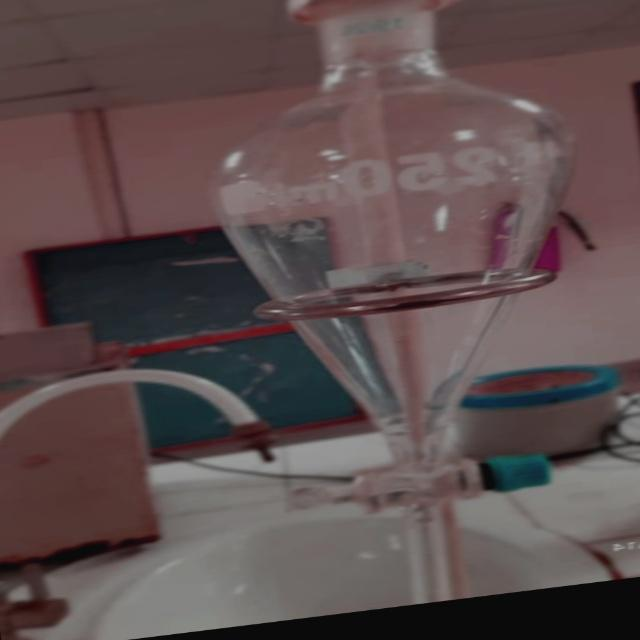Separating Funnel: (166, 0, 640, 621)
